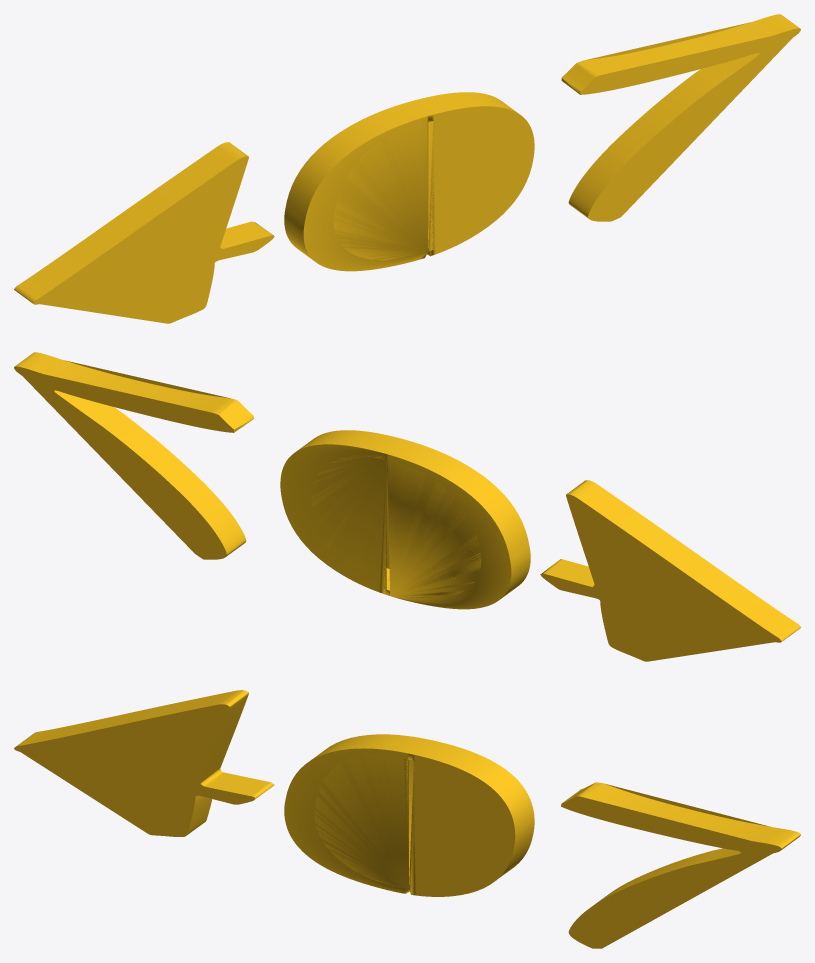
The picture shows the model from 3 angles, top to bottom: view 1: azimuth 30°, elevation 25°; view 2: azimuth 150°, elevation 25°; view 3: azimuth 330°, elevation 25°; orthographic projection.
Parts seen in each view (by area): view 1: T_407_LOD0; view 2: T_407_LOD0; view 3: T_407_LOD0.
Part boxes in pixels (x1,y1,x2,y2): T_407_LOD0: (14, 14, 800, 323); T_407_LOD0: (14, 352, 800, 661); T_407_LOD0: (14, 690, 800, 948).
Size of what is drawn, in the model's own units: 20.88 by 4.02 by 0.9122.
